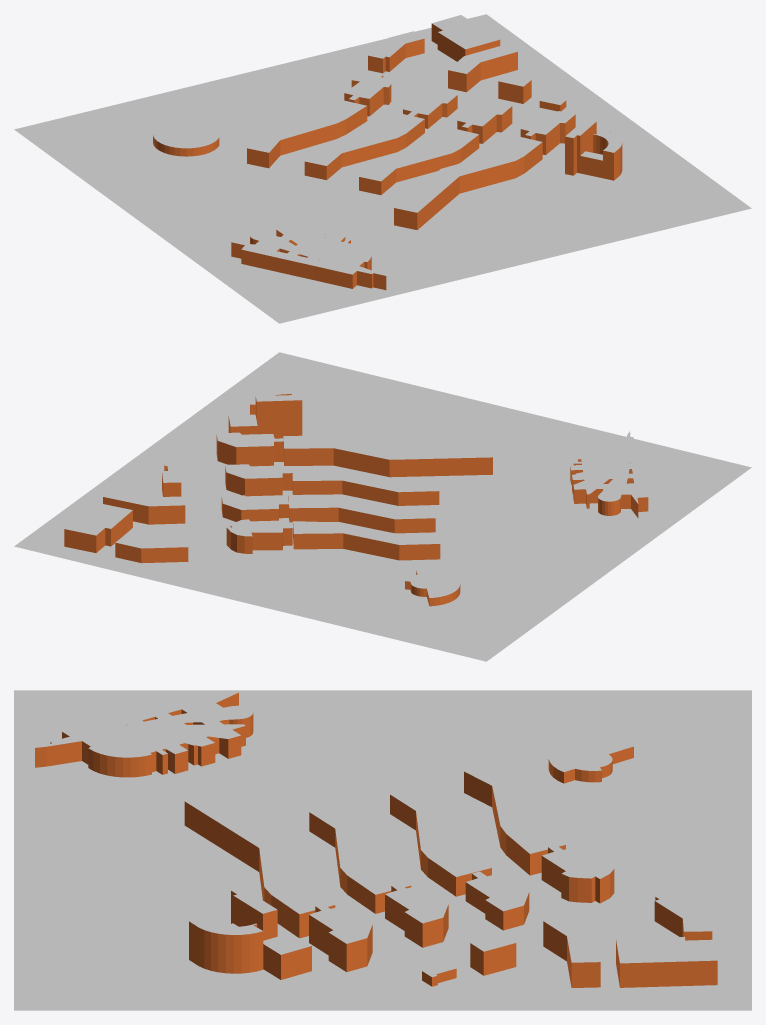
Rendered from budildings.obj.
3 views of the same model, one above another, from view 1: azimuth 30°, elevation 25°; view 2: azimuth 150°, elevation 25°; view 3: azimuth 270°, elevation 25° (orthographic). The views are drawn at different scales.
Parts seen in each view (by area): view 1: Plane, meishu, A, D, C, B, XingZeng, HE, HC, J, AJ, BJ (+4 smaller); view 2: Plane, A, meishu, D, C, B, XingZeng, HC, AJ, HE, BJ, DJ (+3 smaller); view 3: Plane, meishu, A, XingZeng, C, HC, B, D, AJ, DJ, BJ, J (+5 smaller).
Boxes of the visible parts, box(x1,y1,x2,y2) form: Plane: box(14, 14, 751, 323); meishu: box(231, 226, 386, 290); A: box(394, 136, 542, 229); D: box(247, 99, 367, 168); C: box(304, 113, 424, 180); B: box(359, 128, 479, 194); XingZeng: box(565, 119, 622, 180); HE: box(448, 44, 517, 92); HC: box(431, 15, 500, 61); J: box(153, 128, 219, 156); AJ: box(520, 111, 575, 154); BJ: box(457, 102, 512, 143); Plane: box(14, 352, 751, 661); A: box(283, 435, 492, 477); meishu: box(570, 431, 648, 517); D: box(293, 521, 440, 560); C: box(288, 495, 435, 533); B: box(292, 468, 439, 505); XingZeng: box(228, 389, 302, 438); HC: box(64, 502, 132, 552); AJ: box(216, 432, 283, 466); HE: box(103, 489, 185, 524); BJ: box(225, 464, 292, 496); DJ: box(226, 519, 292, 553); Plane: box(14, 690, 751, 1010); meishu: box(35, 692, 253, 777); A: box(184, 793, 335, 938); XingZeng: box(189, 887, 311, 979); C: box(390, 786, 491, 896); HC: box(616, 936, 717, 987); B: box(309, 804, 411, 913); D: box(464, 763, 565, 875); AJ: box(309, 904, 372, 972); DJ: box(541, 845, 614, 903); BJ: box(385, 883, 448, 947); J: box(548, 738, 633, 783).
Size of the model in its own units: 471 by 35.77 by 458.
